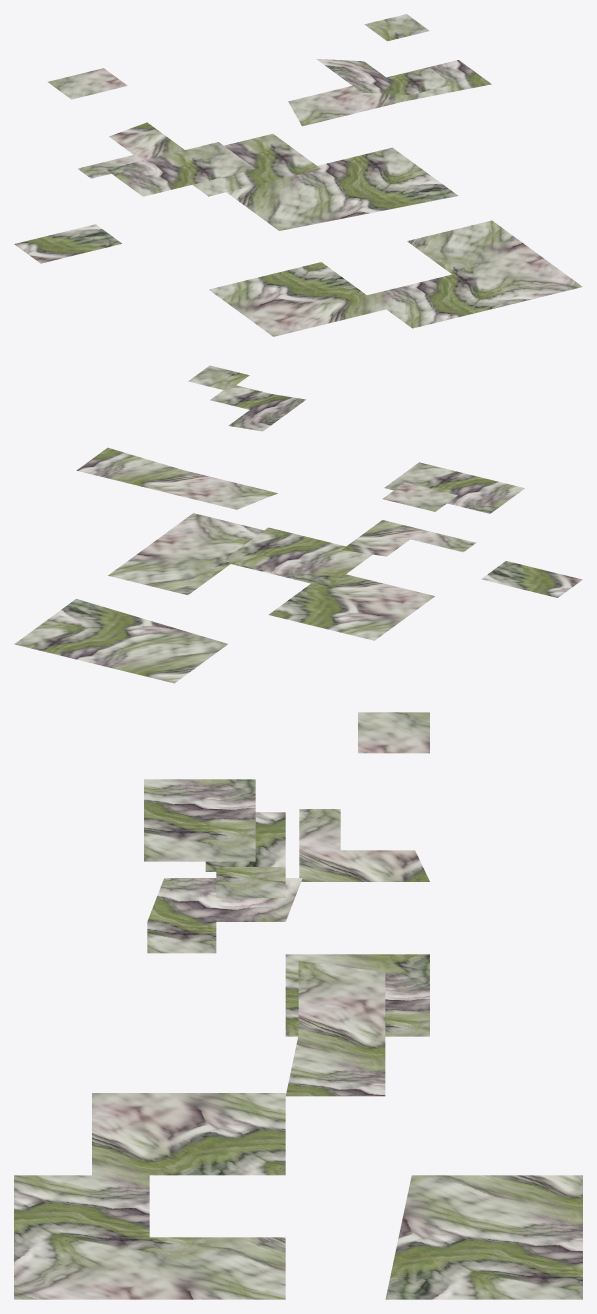
The model's file is MarbleBlock_Top.gltf.
3 renders of one model, top to bottom at view 1: azimuth 30°, elevation 25°; view 2: azimuth 150°, elevation 25°; view 3: azimuth 270°, elevation 25°, orthographic. The views are drawn at different scales.
Visible parts, largest first — view 1: MarbleBlock_Top; view 2: MarbleBlock_Top; view 3: MarbleBlock_Top.
Boxes of the visible parts, left/top/right/bottom form: MarbleBlock_Top: left=14, top=14, right=582, bottom=336; MarbleBlock_Top: left=14, top=365, right=582, bottom=683; MarbleBlock_Top: left=14, top=712, right=582, bottom=1299.
Bounding box in the file's own units: 25.39 × 11.53 × 17.52.
Materials: 1 (1 with a texture image).
